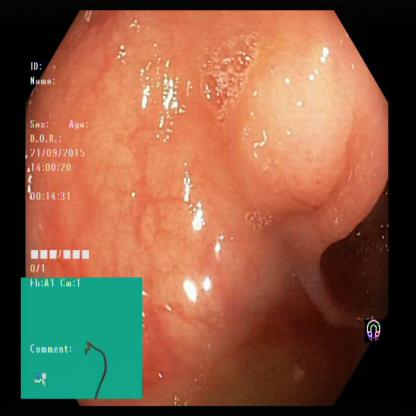Labels: (25, 54, 125, 281), (20, 278, 143, 399)
Polyps: (234, 24, 373, 244)
